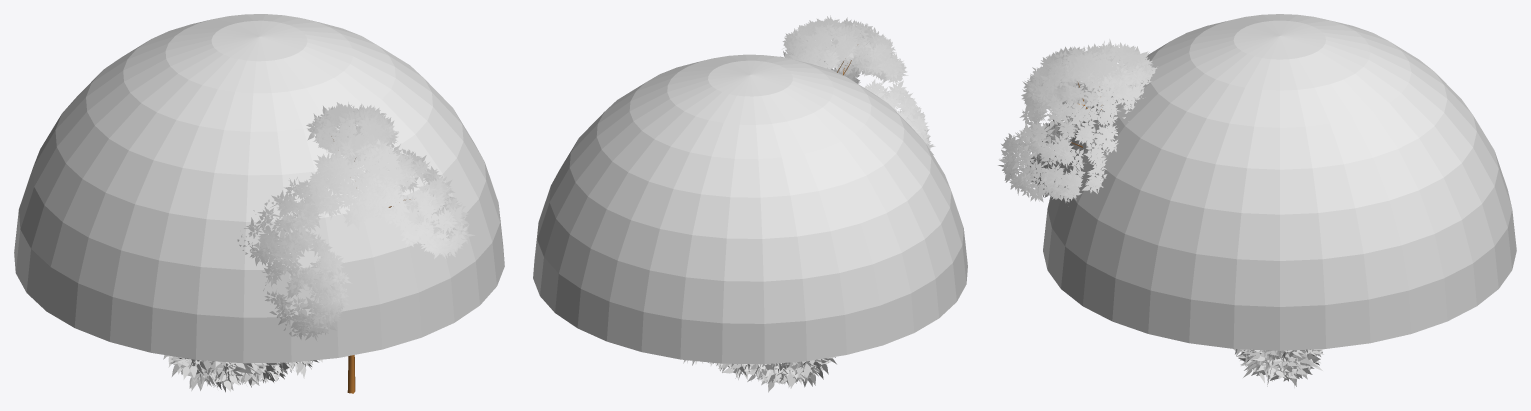
Rendered from LV-tree.fbx.
The picture shows the model from 3 angles, left to right: view 1: azimuth 30°, elevation 25°; view 2: azimuth 150°, elevation 25°; view 3: azimuth 270°, elevation 25°; orthographic projection. The views are drawn at different scales.
Visible parts, largest first — view 1: normalSphere, LV.MS.tree.leaves, LV.MS.bush.leaves.001, LV.MS.bush.leaves; view 2: normalSphere, LV.MS.tree.leaves, LV.MS.bush.leaves.001, LV.MS.bush.leaves; view 3: normalSphere, LV.MS.tree.leaves, LV.MS.bush.leaves.001, LV.MS.bush.leaves.
Part boxes in pixels (left/top/right/bottom): normalSphere: left=14, top=14, right=504, bottom=363; LV.MS.tree.leaves: left=237, top=102, right=474, bottom=341; LV.MS.bush.leaves.001: left=163, top=355, right=344, bottom=392; LV.MS.bush.leaves: left=179, top=358, right=322, bottom=389; normalSphere: left=533, top=54, right=967, bottom=364; LV.MS.tree.leaves: left=780, top=15, right=935, bottom=154; LV.MS.bush.leaves.001: left=683, top=357, right=836, bottom=392; LV.MS.bush.leaves: left=687, top=359, right=824, bottom=387; normalSphere: left=1043, top=14, right=1516, bottom=350; LV.MS.tree.leaves: left=998, top=39, right=1157, bottom=202; LV.MS.bush.leaves.001: left=1233, top=349, right=1324, bottom=387; LV.MS.bush.leaves: left=1236, top=349, right=1322, bottom=386.
Size of the model in its own units: 1124 by 881 by 1235.
Materials: 2 (1 with a texture image).
